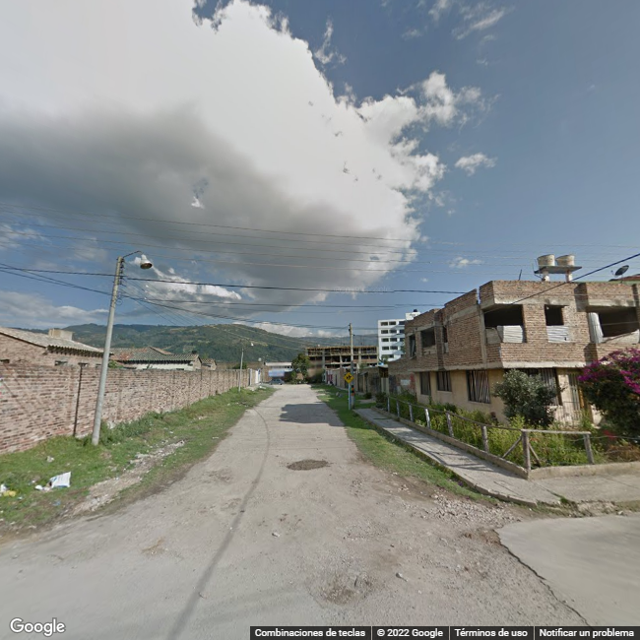D40: (310, 571, 369, 606), (288, 455, 333, 475)
